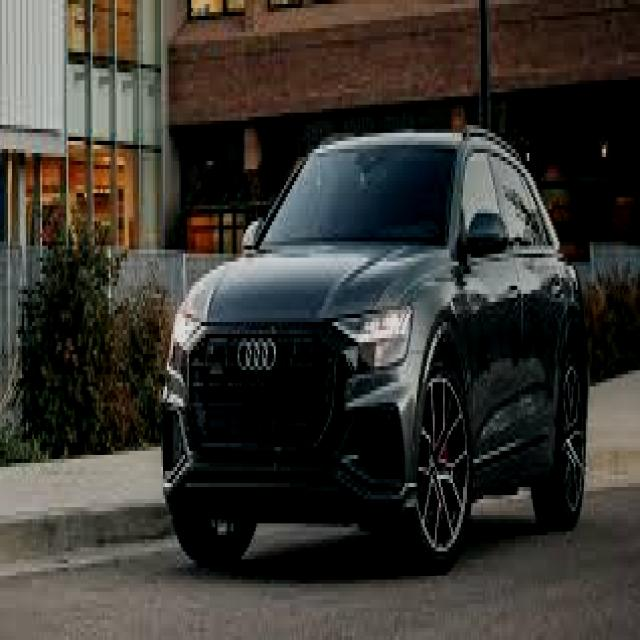SUV: (157, 138, 590, 572)
